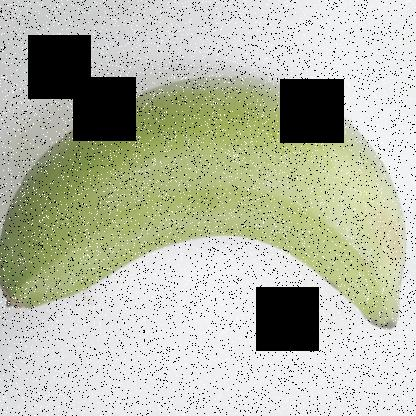freshunripe: (1, 53, 412, 361)
